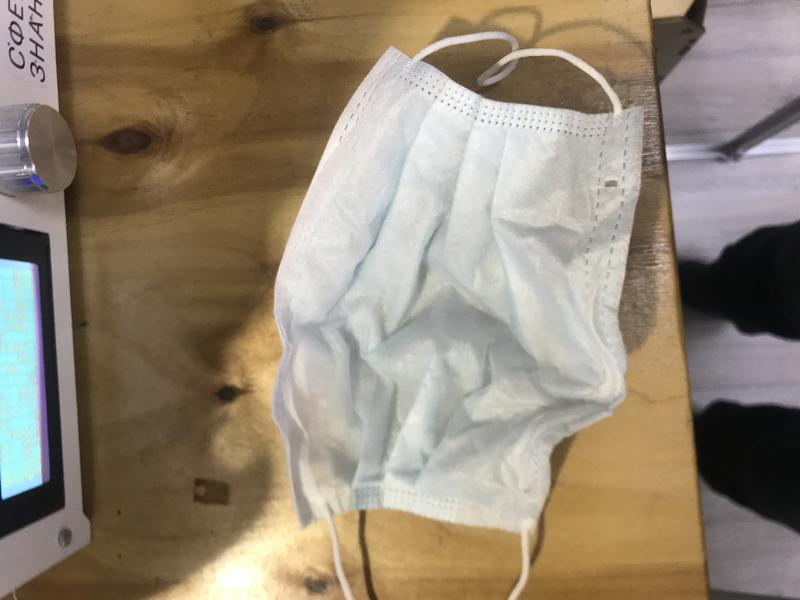medical_mask: (272, 29, 643, 600)
